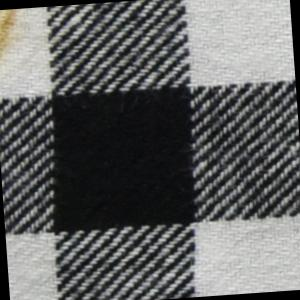Oil Stain: (1, 9, 33, 77)
